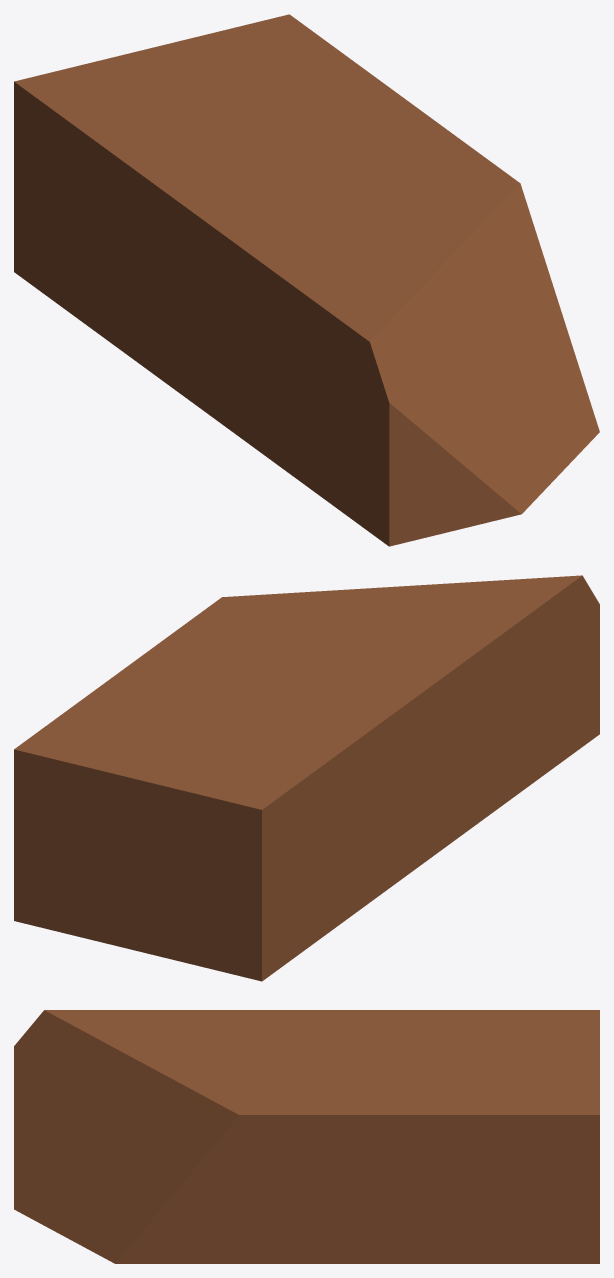
The model's file is LP_PostApoc_Brick1.fbx.
3 renders of one model, top to bottom at view 1: azimuth 30°, elevation 25°; view 2: azimuth 150°, elevation 25°; view 3: azimuth 270°, elevation 25°, orthographic. The views are drawn at different scales.
Visible parts, largest first — view 1: Brick1; view 2: Brick1; view 3: Brick1.
Part boxes in pixels (x1=…): Brick1: x1=14, y1=14, x2=599, y2=546; Brick1: x1=14, y1=575, x2=599, y2=981; Brick1: x1=14, y1=1010, x2=599, y2=1263.
Bounding box in the file's own units: 16.47 × 10.88 × 38.85.
